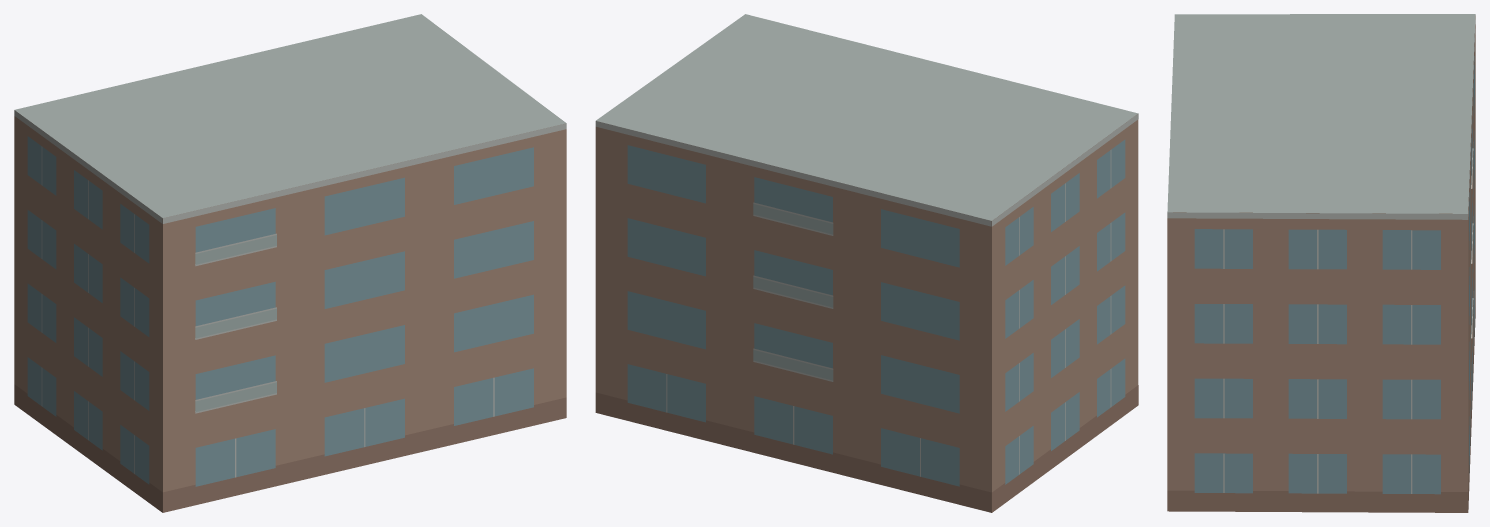
Rendered from survey-upis-32723783.glb.
3 renders of one model, left to right at view 1: azimuth 30°, elevation 25°; view 2: azimuth 150°, elevation 25°; view 3: azimuth 270°, elevation 25°, orthographic. The views are drawn at different scales.
Parts seen in each view (by area): view 1: survey-upis-32723783.tmp; view 2: survey-upis-32723783.tmp; view 3: survey-upis-32723783.tmp.
Boxes of the visible parts, <box> form: survey-upis-32723783.tmp: <box>14,14,566,512</box>; survey-upis-32723783.tmp: <box>595,14,1138,512</box>; survey-upis-32723783.tmp: <box>1167,14,1475,512</box>.
Size of the model in its own units: 17.5 by 12.2 by 11.4.
